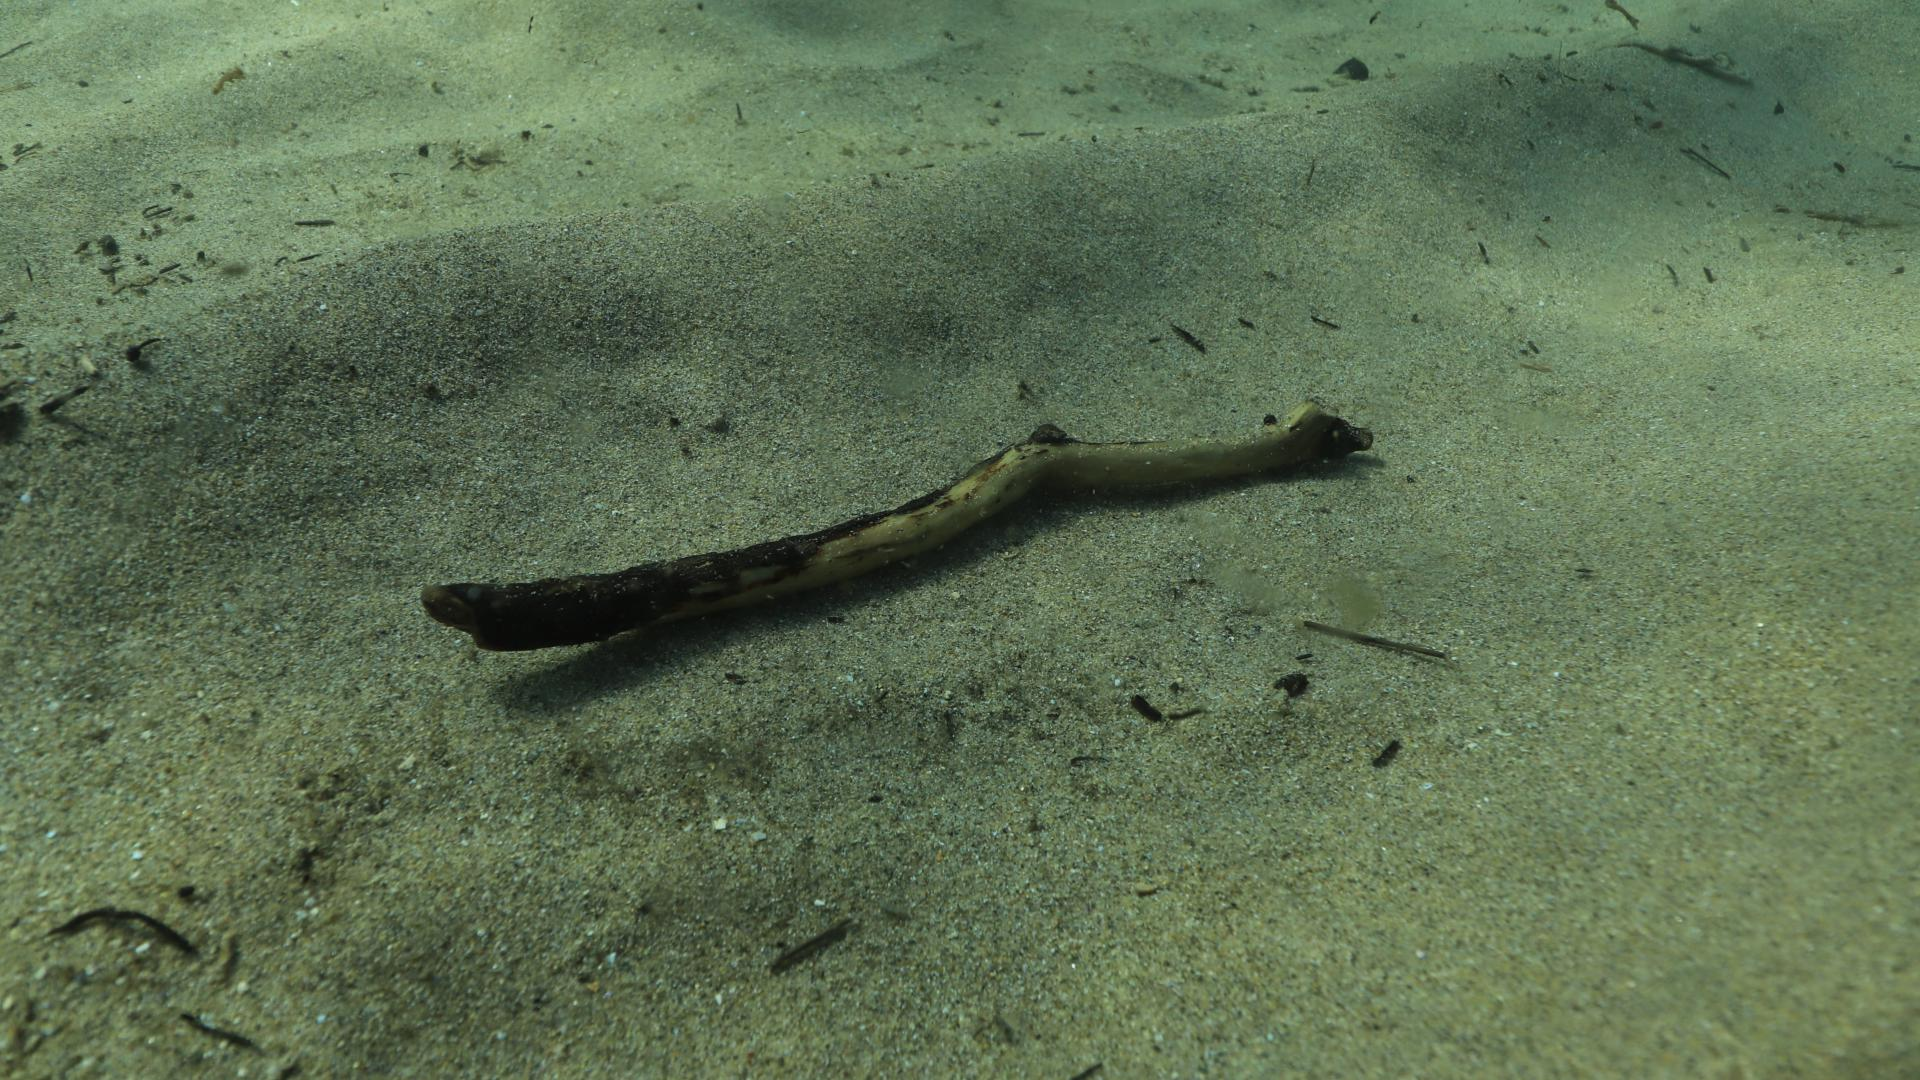wood: (419, 400, 1371, 651)
